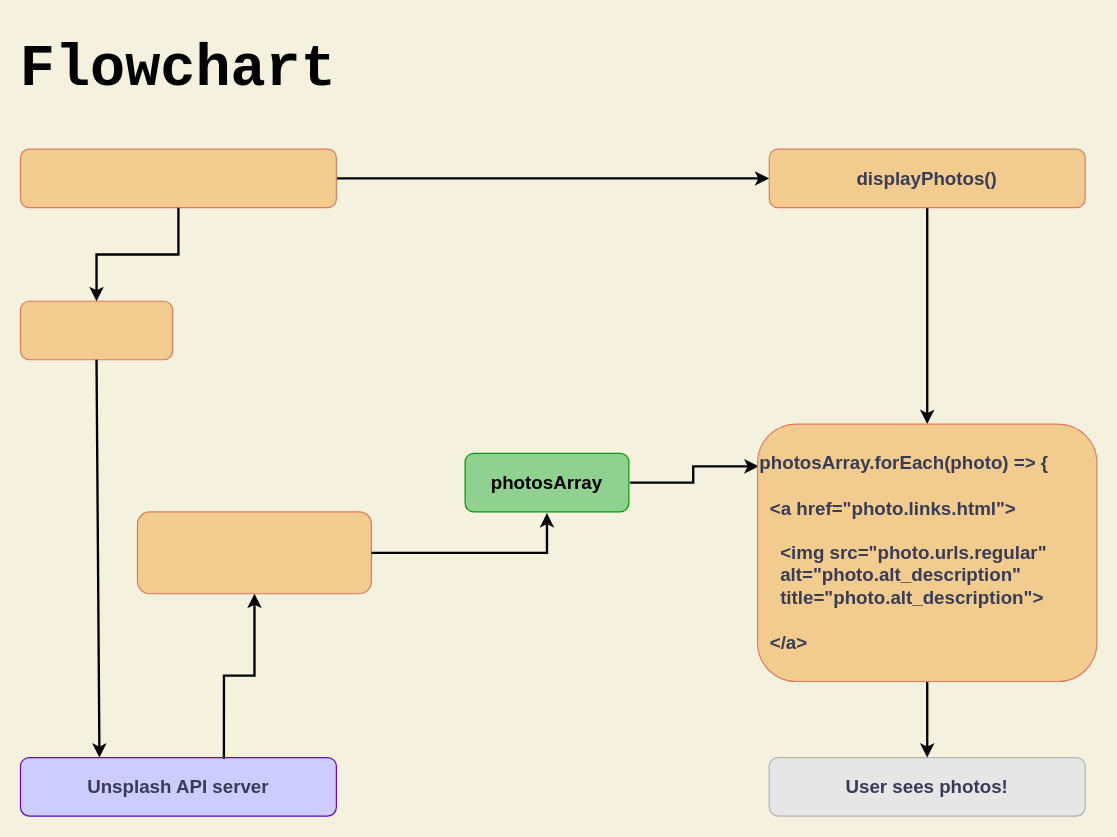
The diagram is 1117 pixels wide and 837 high, and some of its shapes have lost their labels. Here are the shapes that lost their labels. From the top down, the box of each, then its label:
(19, 148, 336, 208): getPhotos()
(19, 300, 173, 360): fetch(apiUrl)
(136, 511, 371, 594): response.json = photosArray
